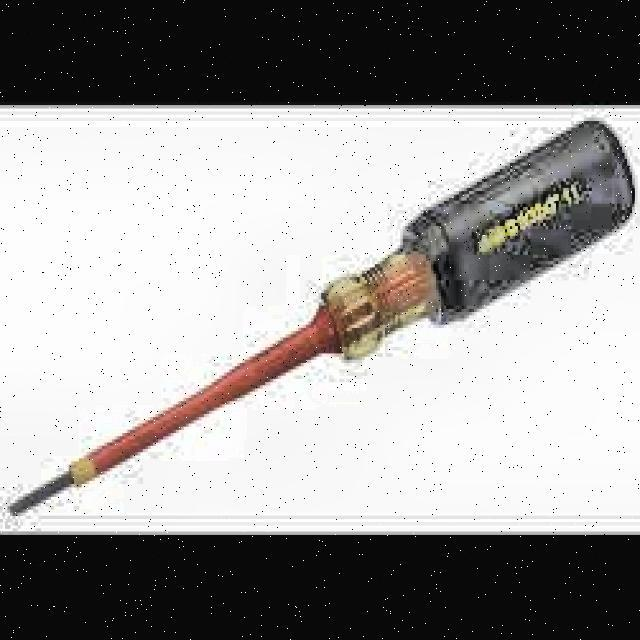screwdriver: (7, 118, 635, 514)
